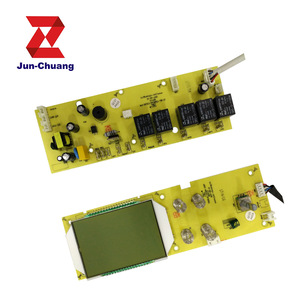capacitor: (77, 105, 90, 117), (66, 122, 80, 133), (61, 153, 76, 162), (198, 83, 209, 94), (57, 156, 62, 161)
